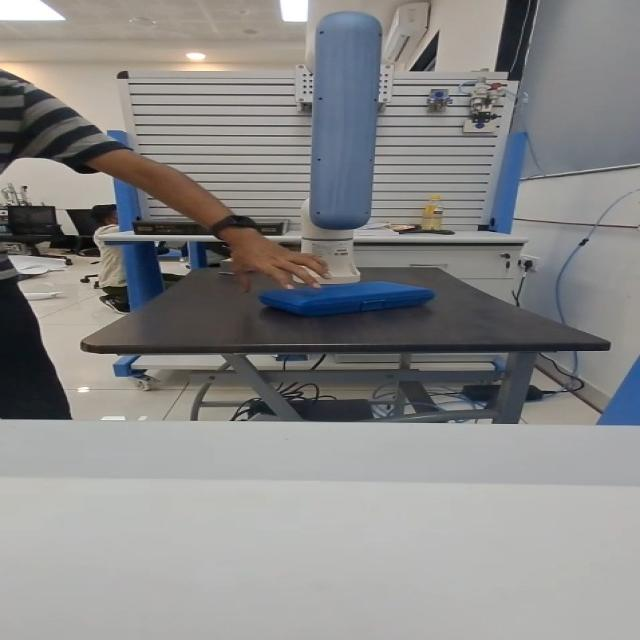top-surface: (293, 284, 406, 295)
